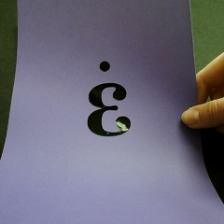violet3: (75, 56, 137, 141)
